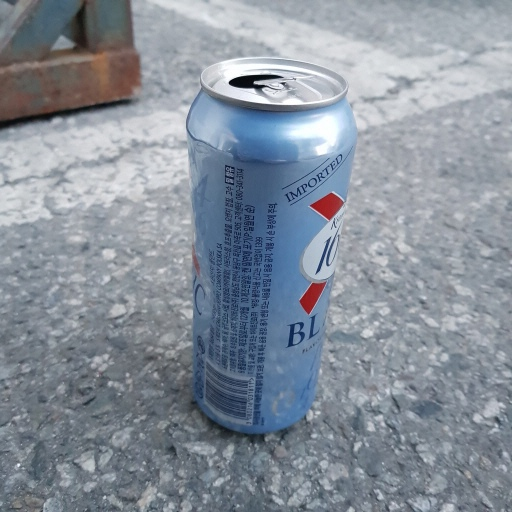Metal_0: (181, 55, 359, 437)
